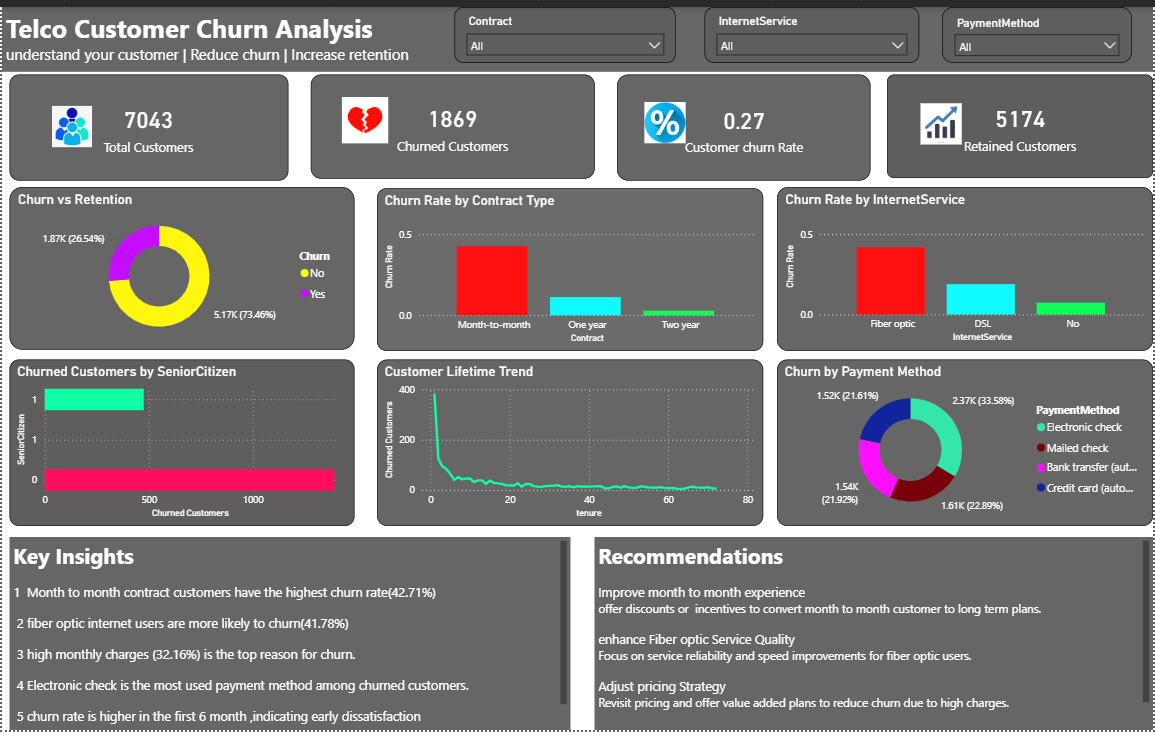

The page's visual inventory and layout, read from the dashboard file:
{"tool":"powerbi","page":{"name":"Page 1","canvas":[1449,911],"ordinal":0},"visuals":[{"type":"card","fields":{"Values":["Count(Table1.customerID)"]},"box":[9.4,85,351,133.8],"z":0},{"type":"card","fields":{"Values":["Table1.Churned Customers"]},"box":[389.1,84.9,358,131.6],"z":1000},{"type":"card","fields":{"Values":["Table1.Churn Rate"]},"box":[774.4,85,319.5,133.8],"z":2000},{"type":"card","fields":{"Values":["Table1.Retained Customers"]},"box":[1114.4,85,335.3,130.6],"z":3000},{"type":"donutChart","title":"Churn vs Retention","fields":{"Category":["Table1.Churn"],"Y":["Count(Table1.customerID)"]},"box":[9.9,226.4,434.4,205.2],"z":4000},{"type":"clusteredColumnChart","title":"Churn Rate by Contract Type","fields":{"Category":["Table1.Contract"],"Y":["Table1.Churn Rate"]},"box":[472.6,227.8,486.8,205.2],"z":5000},{"type":"clusteredColumnChart","fields":{"Y":["Table1.Churn Rate"],"Category":["Table1.InternetService"]},"box":[975.9,226.6,473.8,206.2],"z":6000},{"type":"clusteredBarChart","fields":{"Category":["Table1.SeniorCitizen"],"Y":["Table1.Churned Customers"]},"box":[9.9,444.3,434.4,209.4],"z":7000},{"type":"lineChart","title":"Customer Lifetime Trend","fields":{"Y":["Table1.Churned Customers"],"Category":["Table1.tenure"]},"box":[472.6,444.3,486.8,209.4],"z":8000},{"type":"donutChart","title":"Churn by Payment Method","fields":{"Category":["Table1.PaymentMethod"],"Y":["Count(Table1.customerID)"]},"box":[975.9,443.9,473.8,209.3],"z":9000},{"type":"textbox","box":[0,0,1449.6,81.8],"z":10000},{"type":"slicer","fields":{"Values":["Table1.Contract"]},"box":[570.2,0,278.8,70.8],"z":11000},{"type":"slicer","fields":{"Values":["Table1.InternetService"]},"box":[884.4,0,270.3,70.8],"z":12000},{"type":"slicer","fields":{"Values":["Table1.PaymentMethod"]},"box":[1182.9,0,239.1,70.8],"z":13000},{"type":"textbox","box":[9.4,667.4,706.7,244],"z":13001},{"type":"textbox","box":[746.1,667.4,703.6,244],"z":13002},{"type":"image","box":[63,113.3,50.4,74],"z":13003},{"type":"image","box":[388.8,113.3,136.9,58.2],"z":13004},{"type":"image","box":[771.2,119.6,127.5,51.9],"z":13005},{"type":"image","box":[1082.9,121.2,199.9,51.9],"z":13006}]}

Visuals, with their boxes in screenshot pixels (x1, y1, x2, y2), scaled from the page's 1449x911 canvas onto the 1155x737 screenshot:
card - Count(Table1.customerID): crop(7, 69, 287, 177)
card - Table1.Churned Customers: crop(310, 69, 596, 175)
card - Table1.Churn Rate: crop(617, 69, 872, 177)
card - Table1.Retained Customers: crop(888, 69, 1154, 174)
"Churn vs Retention" donutChart: crop(8, 183, 354, 349)
"Churn Rate by Contract Type" clusteredColumnChart: crop(377, 184, 765, 350)
clusteredColumnChart - Table1.Churn Rate x Table1.InternetService: crop(778, 183, 1154, 350)
clusteredBarChart - Table1.SeniorCitizen x Table1.Churned Customers: crop(8, 359, 354, 529)
"Customer Lifetime Trend" lineChart: crop(377, 359, 765, 529)
"Churn by Payment Method" donutChart: crop(778, 359, 1154, 528)
textbox: crop(0, 0, 1154, 66)
slicer - Table1.Contract: crop(455, 0, 677, 57)
slicer - Table1.InternetService: crop(705, 0, 920, 57)
slicer - Table1.PaymentMethod: crop(943, 0, 1133, 57)
textbox: crop(7, 540, 571, 736)
textbox: crop(595, 540, 1154, 736)
image: crop(50, 92, 90, 152)
image: crop(310, 92, 419, 139)
image: crop(615, 97, 716, 139)
image: crop(863, 98, 1023, 140)
